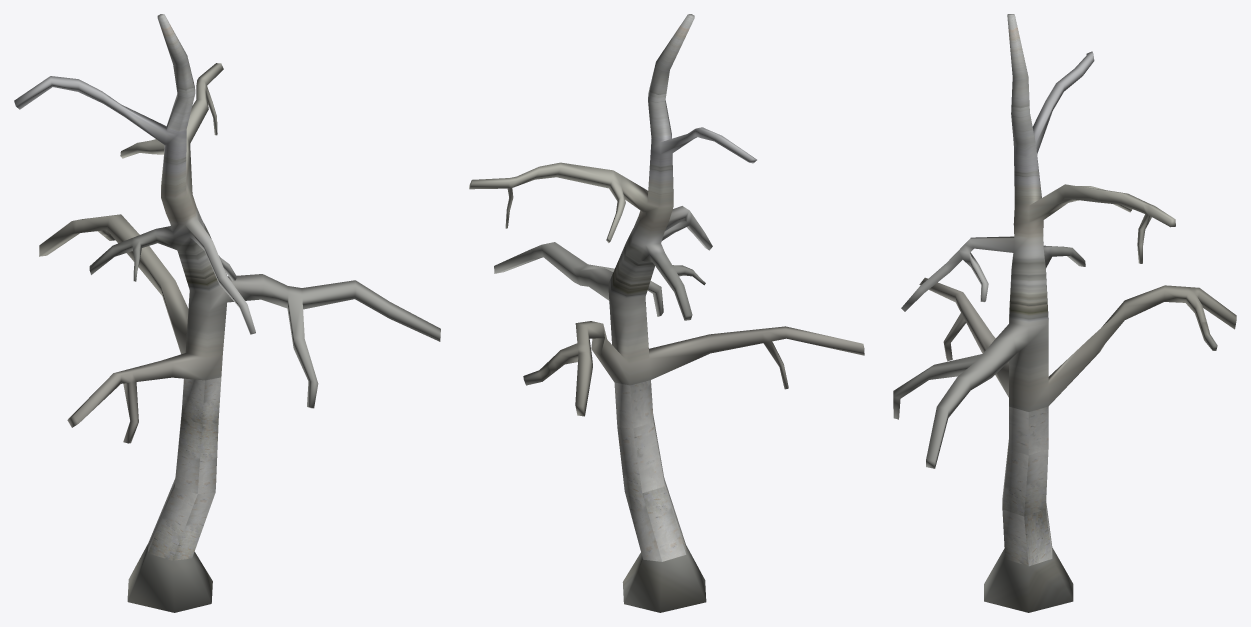
The model's file is deadtree1test 1.fbx.
3 renders of one model, left to right at view 1: azimuth 30°, elevation 25°; view 2: azimuth 150°, elevation 25°; view 3: azimuth 270°, elevation 25°, orthographic. The views are drawn at different scales.
Parts seen in each view (by area): view 1: Cube; view 2: Cube; view 3: Cube.
Part boxes in pixels (left/top/right/bottom): Cube: left=14, top=14, right=440, bottom=612; Cube: left=469, top=14, right=864, bottom=612; Cube: left=893, top=14, right=1236, bottom=612.
Size of the model in its own units: 1045 by 1561 by 851.
